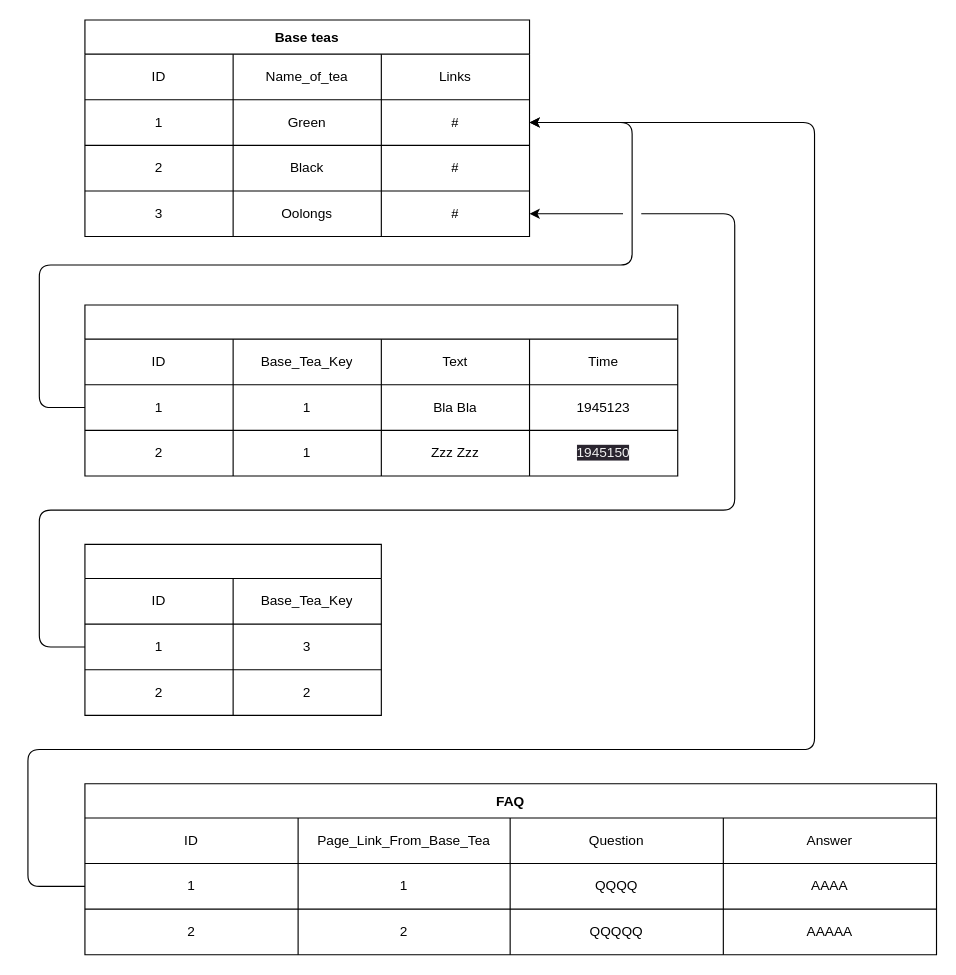
The diagram is 956 pixels wide and 975 high, and some of its shapes have lost their labels. The shapes that lost their labels are listed below. From the top down, each one's box as (x1, y1, x2, y2) in pixels, then its label:
(84, 304, 678, 476): Comments
(84, 543, 381, 715): Resipys
